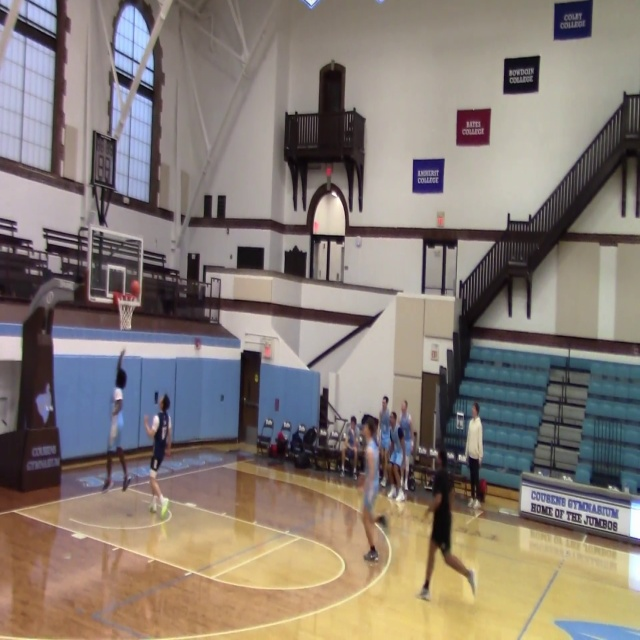Basketball: (130, 280, 140, 297), (479, 479, 487, 494)
